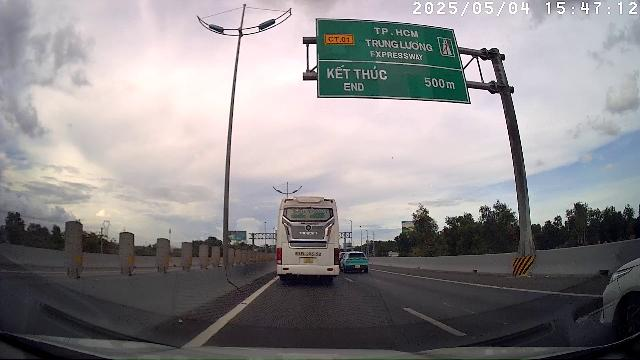438-ket-thuc-duong-cao-toc: (437, 36, 456, 57)
